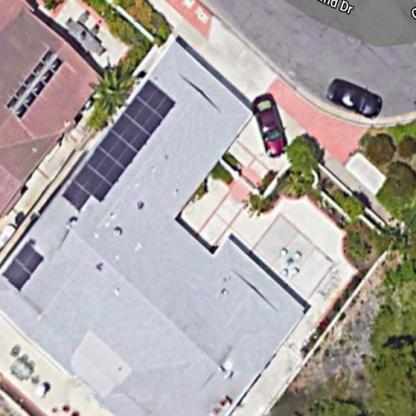car: (245, 88, 292, 162), (325, 69, 382, 122)
solar_panel: (61, 76, 185, 220), (4, 236, 53, 293)
